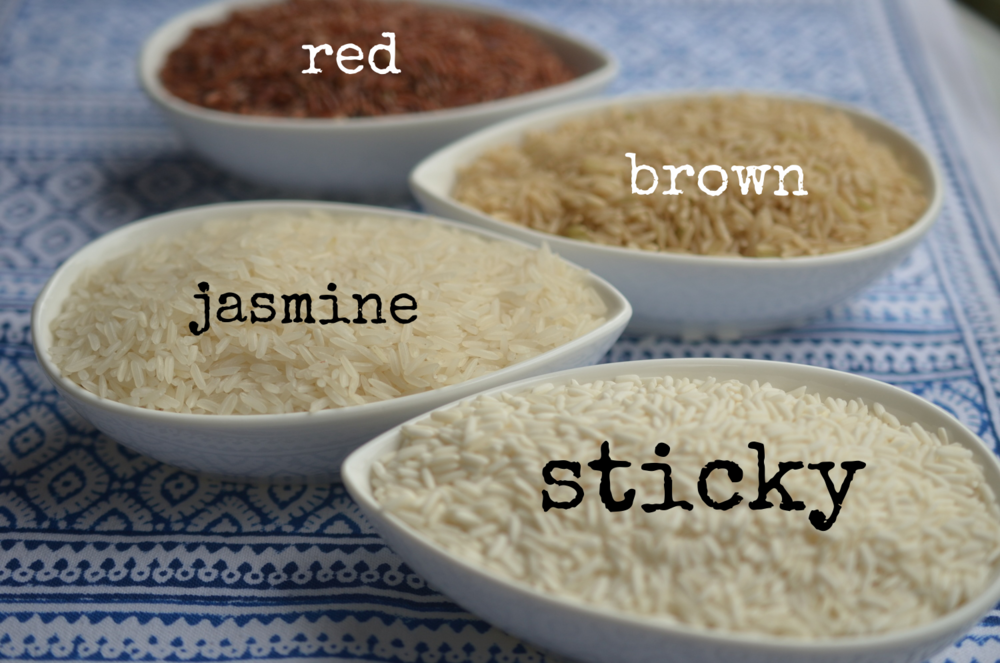plain rice: (622, 549, 885, 607), (140, 214, 380, 254)
